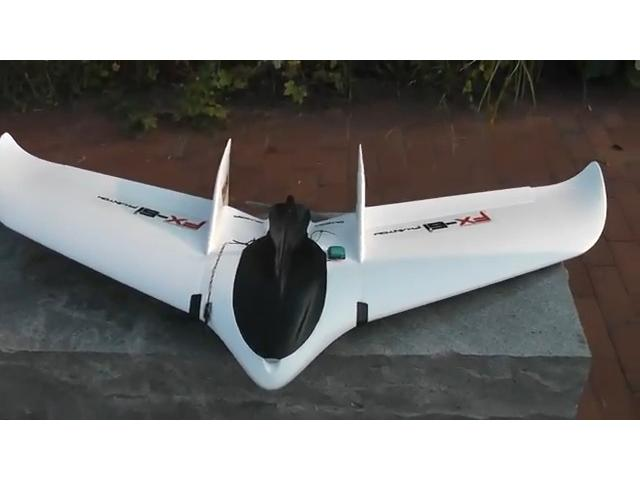Anti-Drone: (2, 116, 636, 398)
